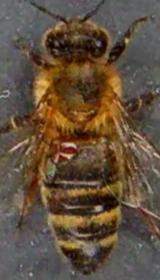varroa_mite: (38, 123, 80, 164)
